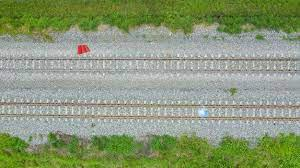Color_steel: (77, 43, 91, 55)
